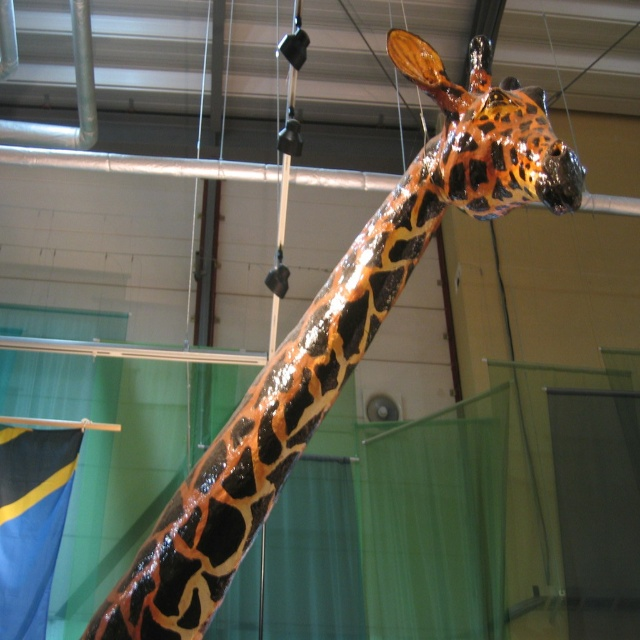Giraffe: (96, 42, 583, 640)
